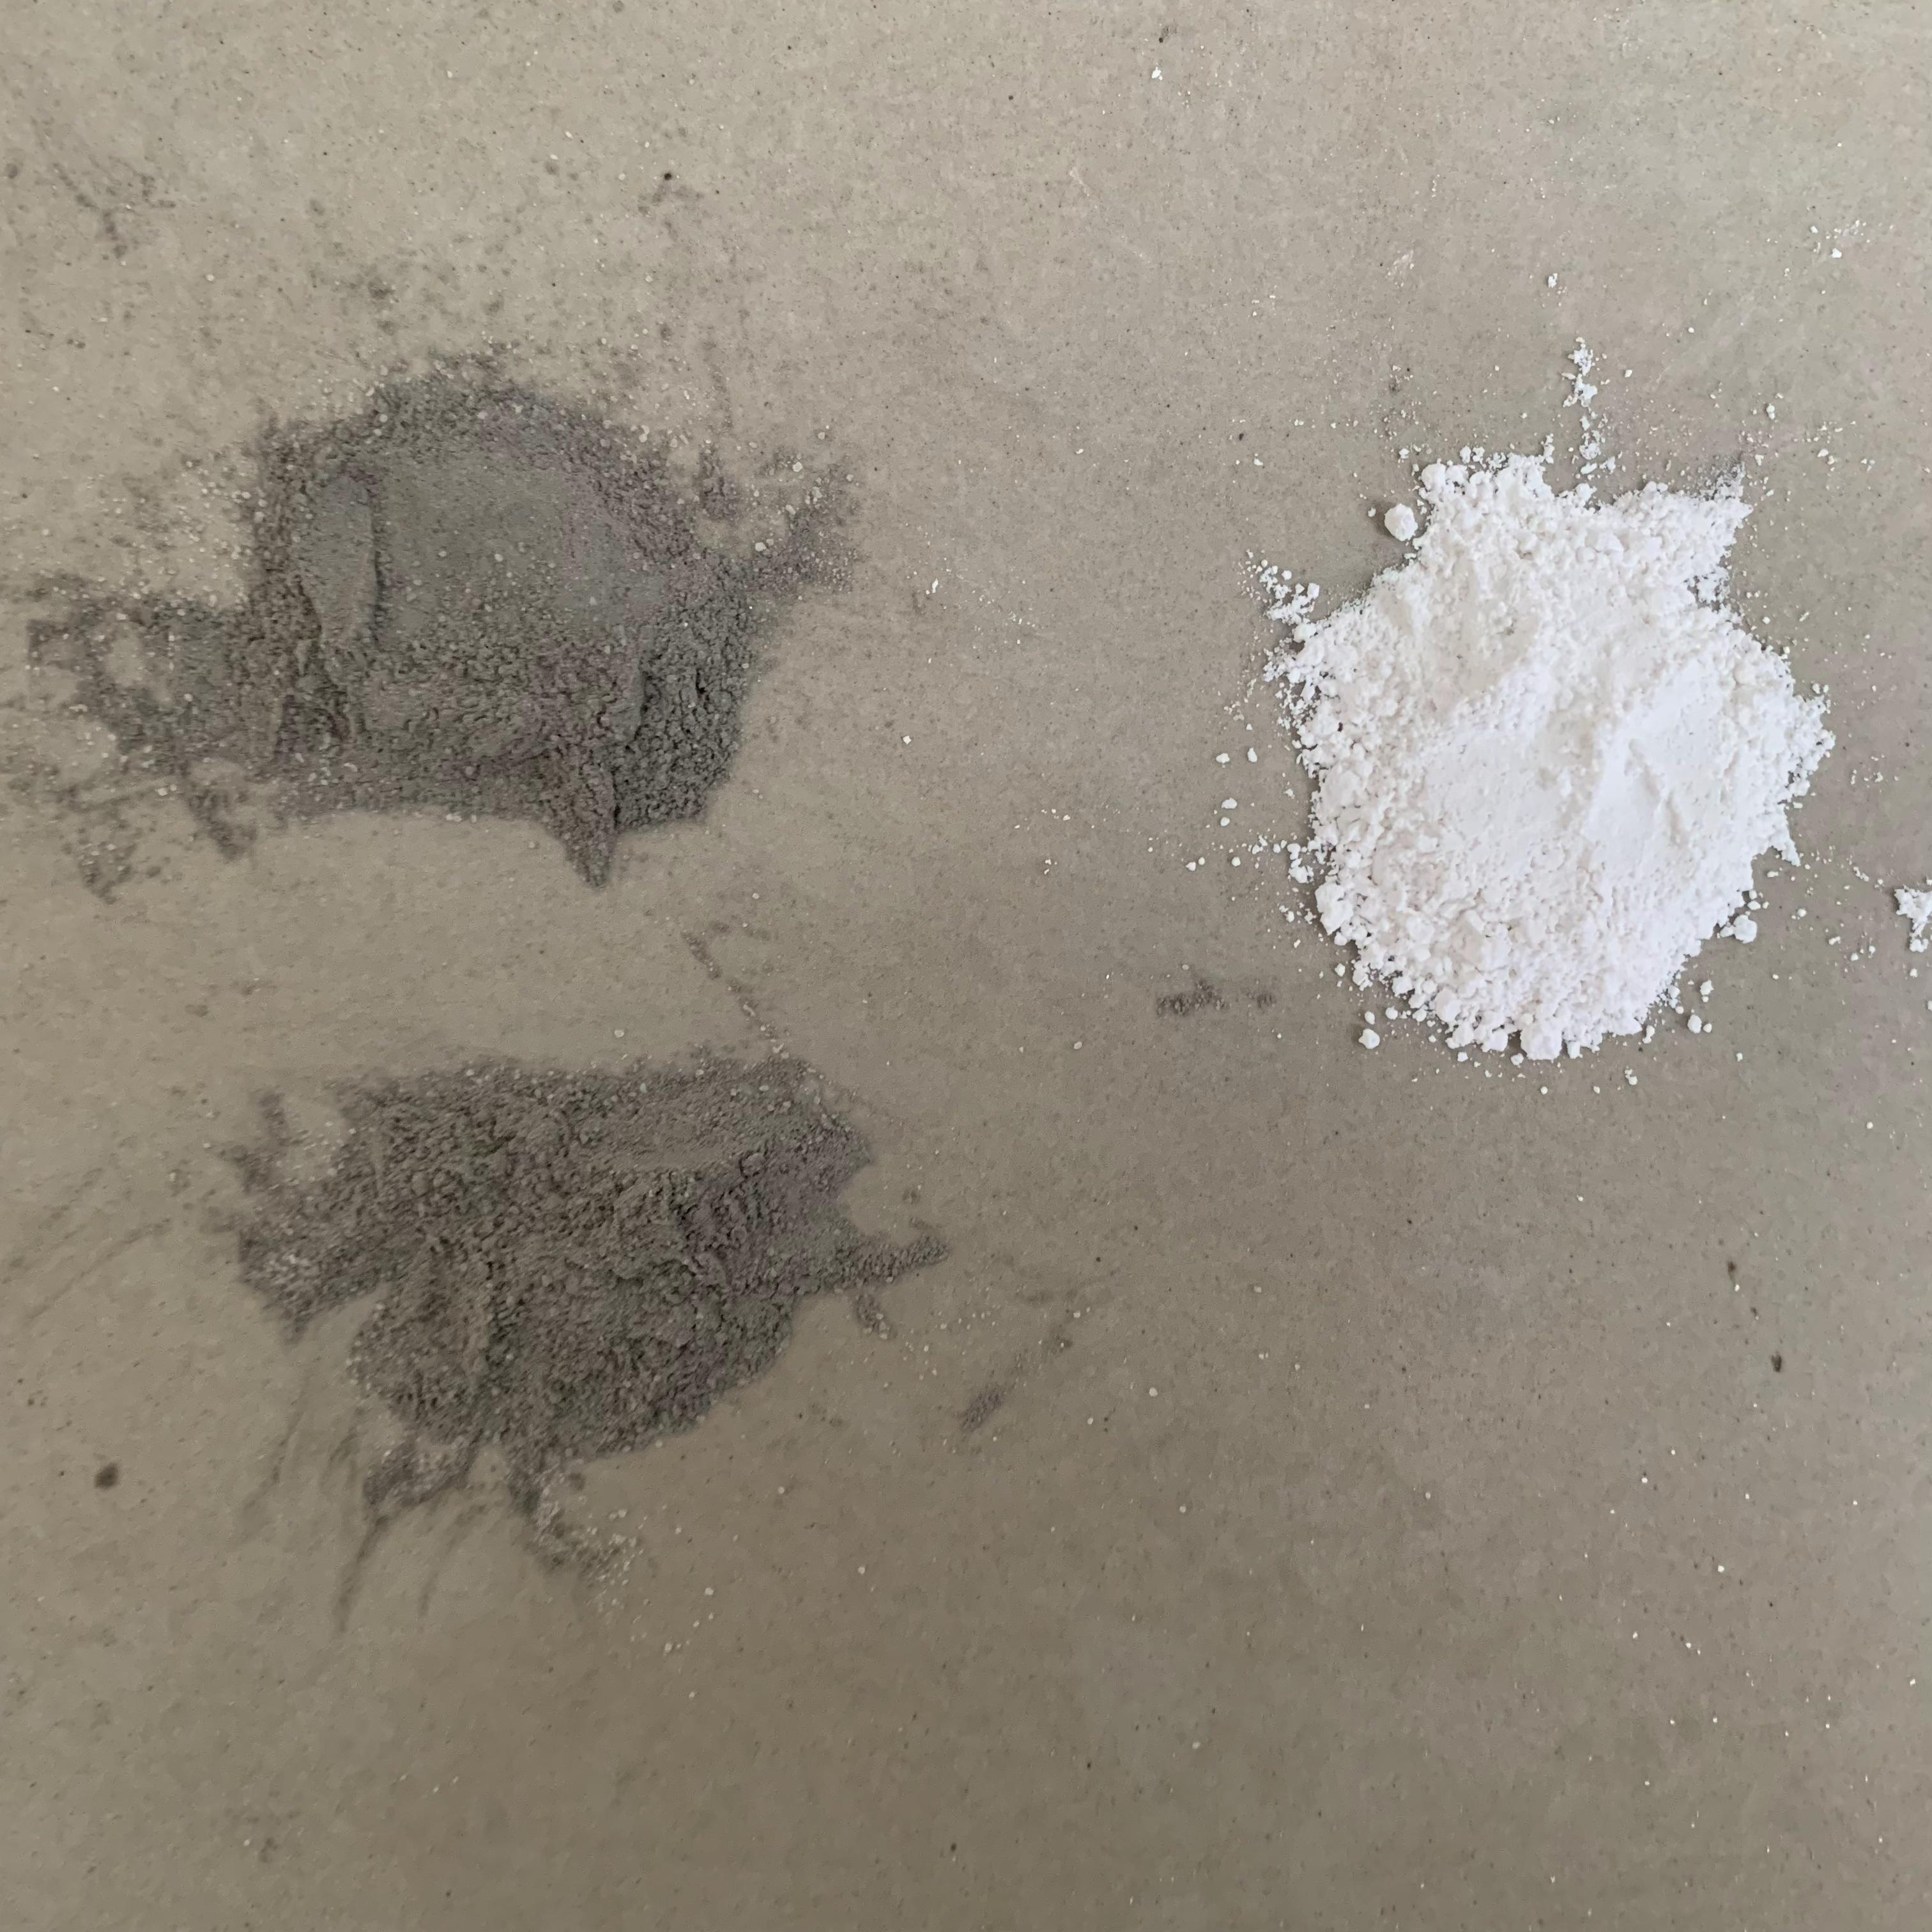ash pile: (0, 343, 863, 904), (214, 1058, 954, 1638), (1249, 442, 1838, 1063)
